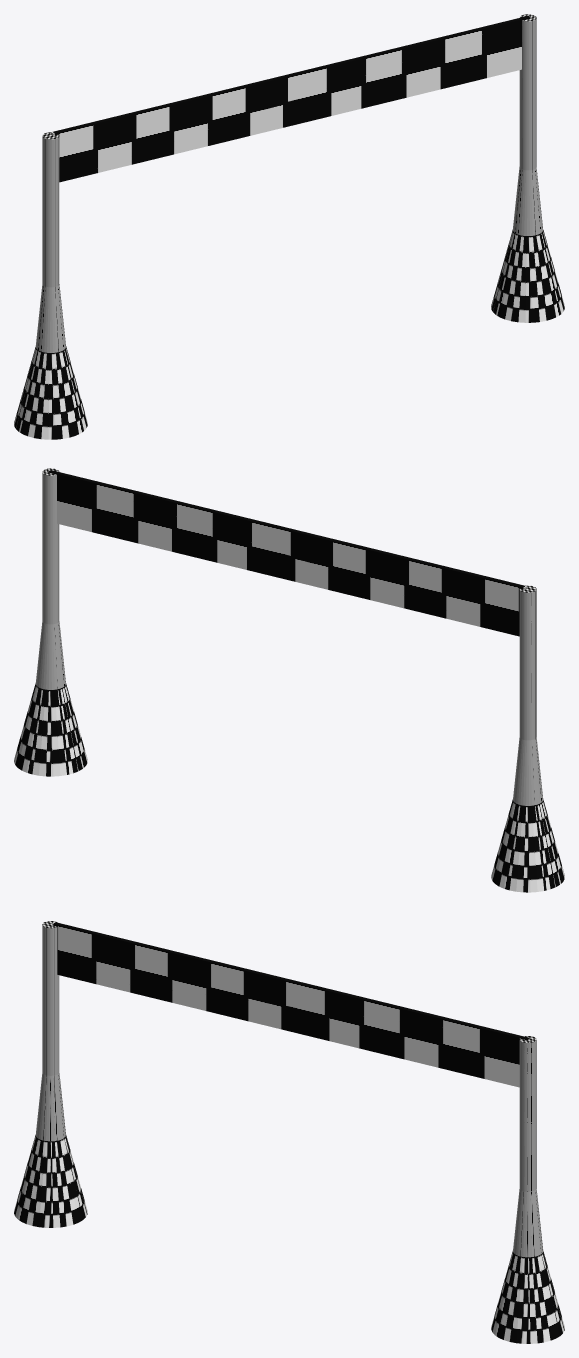
The model's file is Checkpoint.obj.
3 views of the same model, one above another, from view 1: azimuth 30°, elevation 25°; view 2: azimuth 150°, elevation 25°; view 3: azimuth 330°, elevation 25° (orthographic).
Visible parts, largest first — view 1: Cube; view 2: Cube; view 3: Cube.
Part boxes in pixels (x1,y1,x2,y2): Cube: [14, 14, 564, 439]; Cube: [14, 468, 564, 892]; Cube: [14, 921, 564, 1343].
Bounding box in the file's own units: 16.89 × 8.65 × 2.03.
Materials: 1 (1 with a texture image).
